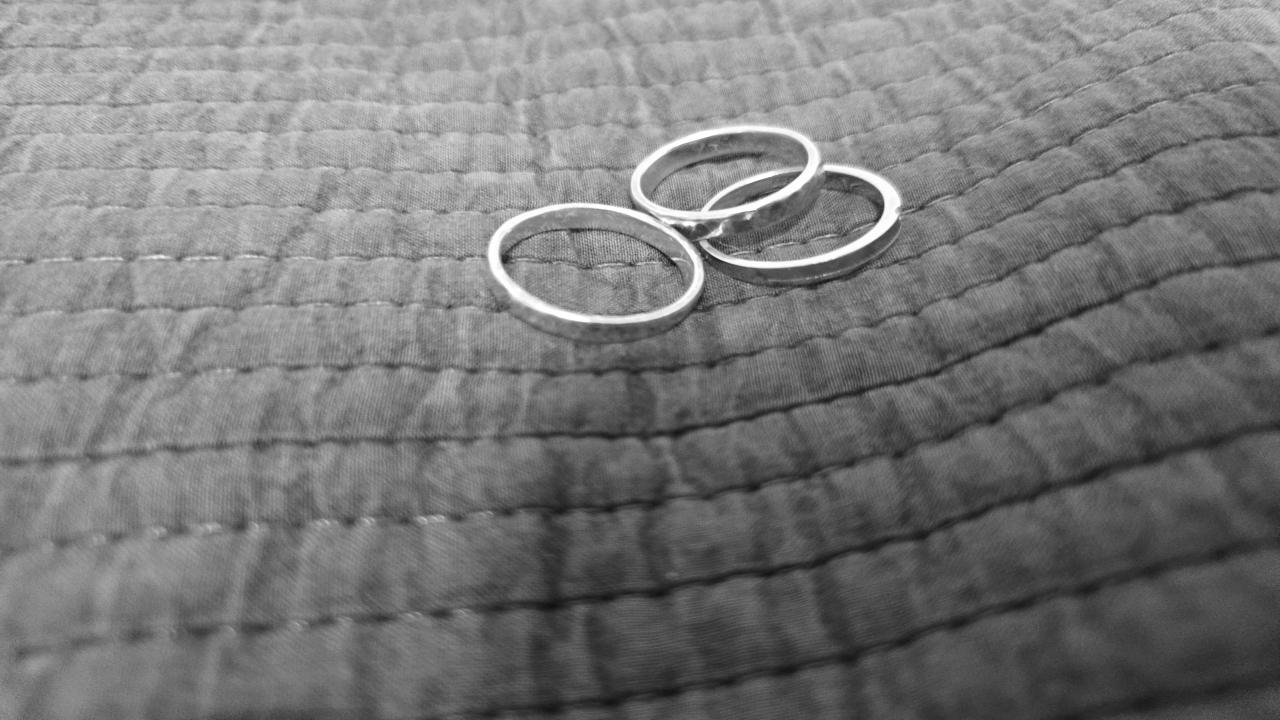ring: (484, 204, 708, 340), (691, 164, 903, 288), (628, 124, 826, 243)
